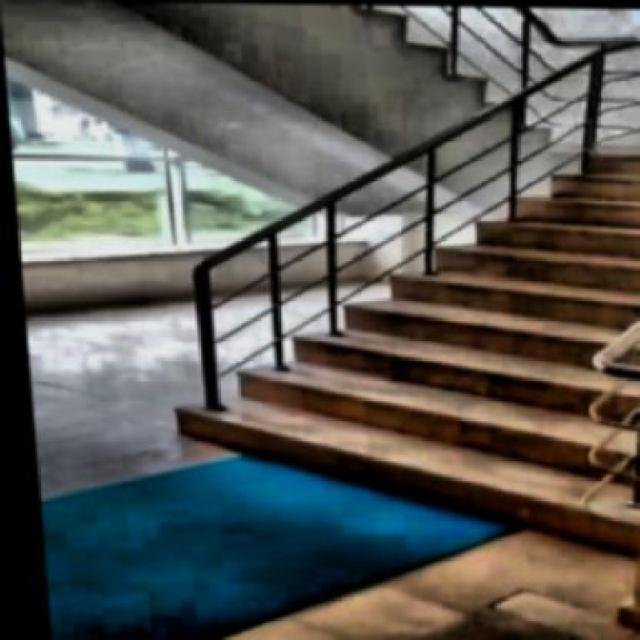stair: (160, 106, 638, 559)
